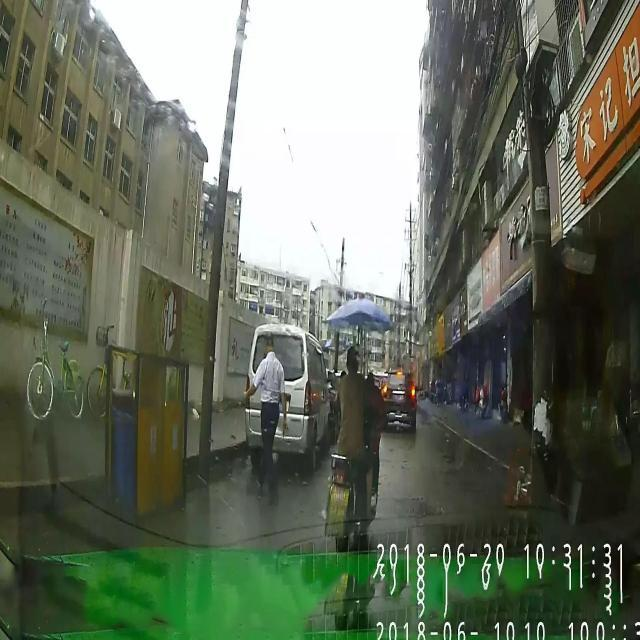car: (245, 320, 328, 475), (382, 366, 414, 426)
